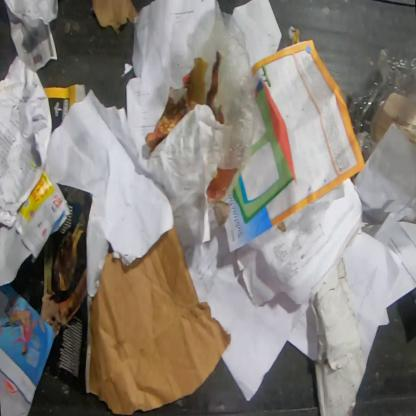cardboard: (88, 222, 233, 415), (145, 55, 218, 151), (42, 82, 87, 134), (206, 168, 239, 230), (92, 0, 139, 35)
soft_plastic: (186, 6, 262, 174), (343, 45, 415, 165)
